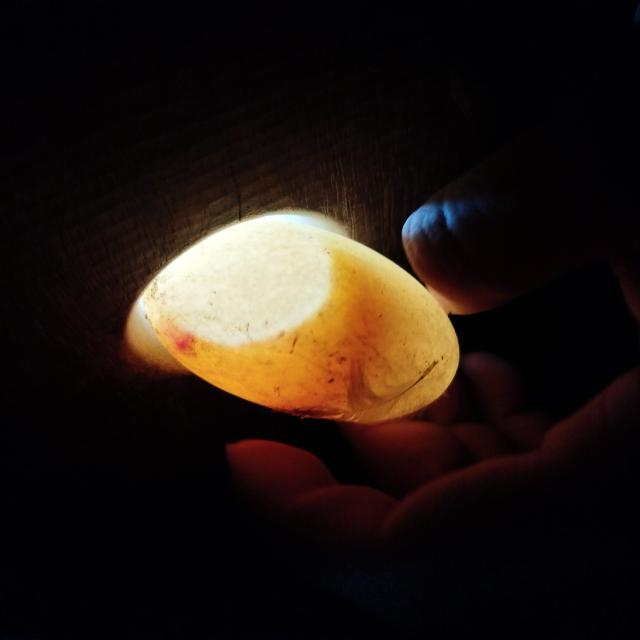Camara de Ar: (161, 220, 333, 347)
